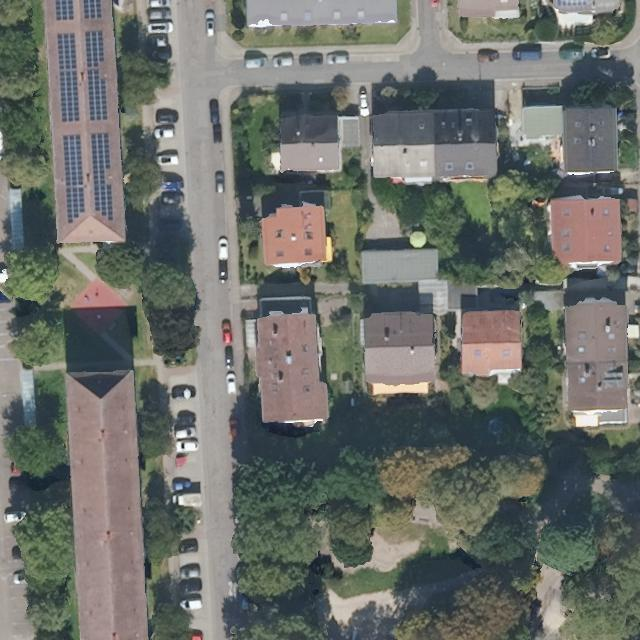PV: (60, 131, 88, 230), (82, 27, 110, 122), (88, 131, 116, 226), (55, 31, 82, 124), (53, 1, 78, 25), (81, 1, 105, 21)
